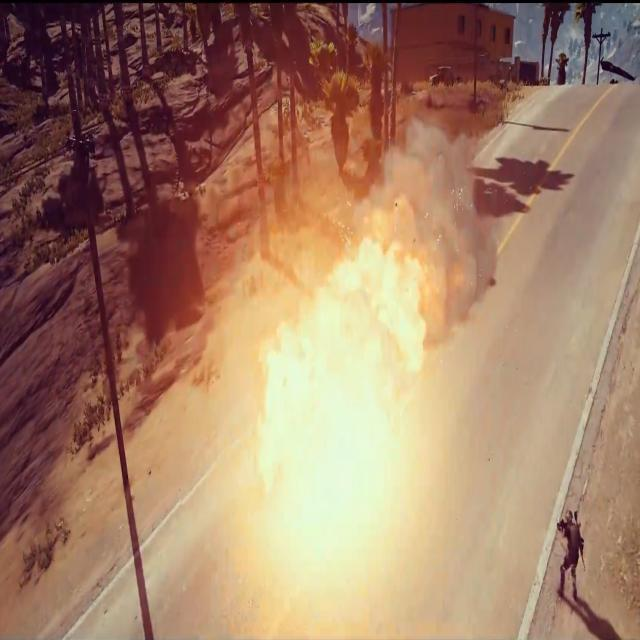fire: (244, 108, 505, 576)
